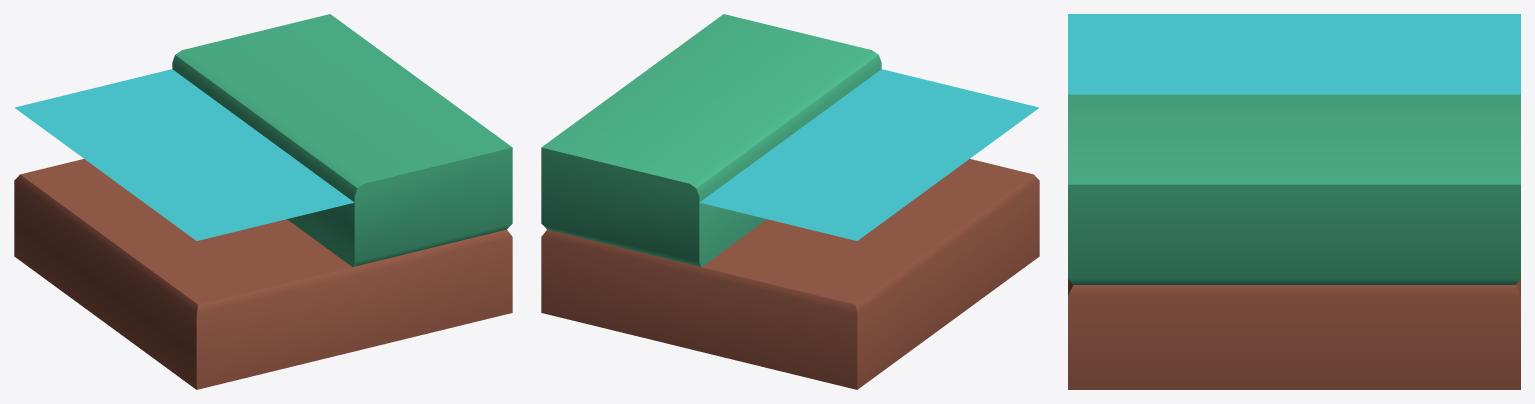
Rendered from square_forest_waterStraight_noSides.glb.
The picture shows the model from 3 angles, left to right: view 1: azimuth 30°, elevation 25°; view 2: azimuth 150°, elevation 25°; view 3: azimuth 270°, elevation 25°; orthographic projection. The views are drawn at different scales.
Parts seen in each view (by area): view 1: square_forest_waterStraight_noSides; view 2: square_forest_waterStraight_noSides; view 3: square_forest_waterStraight_noSides.
Part boxes in pixels (x1,y1,x2,y2): square_forest_waterStraight_noSides: [14, 14, 512, 389]; square_forest_waterStraight_noSides: [541, 14, 1039, 389]; square_forest_waterStraight_noSides: [1068, 14, 1520, 389].
Size of the model in its own units: 2 by 1 by 2.
